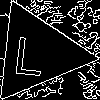L: (12, 28, 47, 76)
